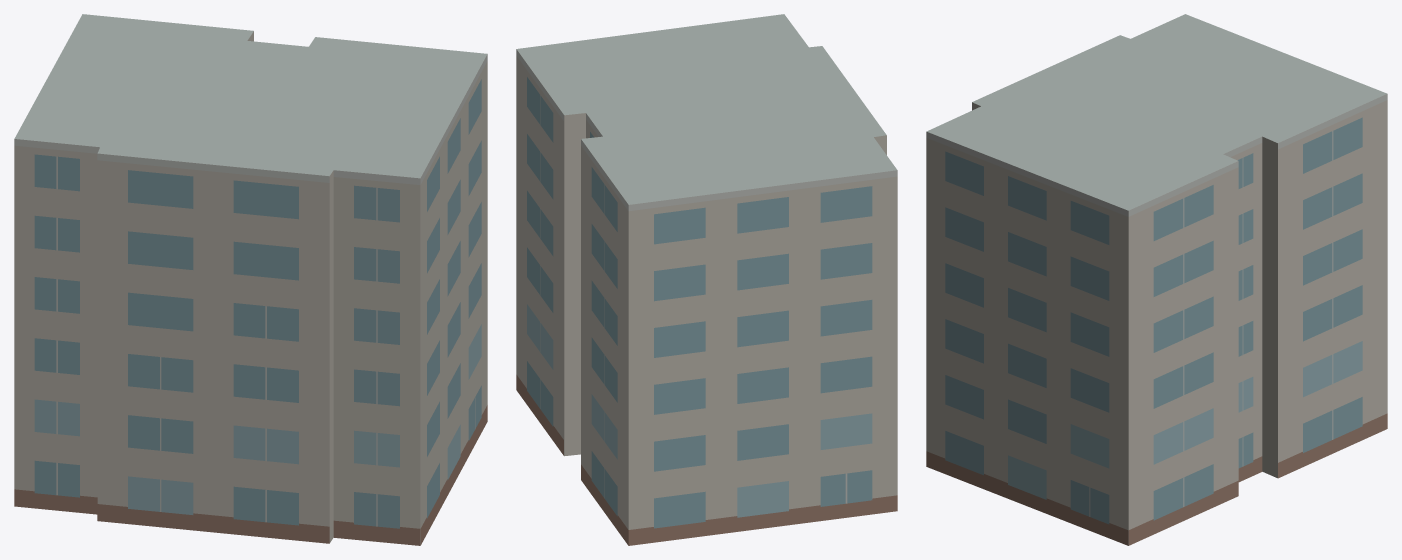
Rendered from survey-upis-33000143.glb.
The picture shows the model from 3 angles, left to right: view 1: azimuth 30°, elevation 25°; view 2: azimuth 150°, elevation 25°; view 3: azimuth 270°, elevation 25°; orthographic projection. The views are drawn at different scales.
Parts seen in each view (by area): view 1: survey-upis-33000143.tmp; view 2: survey-upis-33000143.tmp; view 3: survey-upis-33000143.tmp.
Part boxes in pixels (bbox=[...]): survey-upis-33000143.tmp: bbox=[14, 14, 487, 545]; survey-upis-33000143.tmp: bbox=[516, 14, 897, 545]; survey-upis-33000143.tmp: bbox=[926, 14, 1387, 545].
Bounding box in the file's own units: 16.63 × 13.2 × 16.47.
